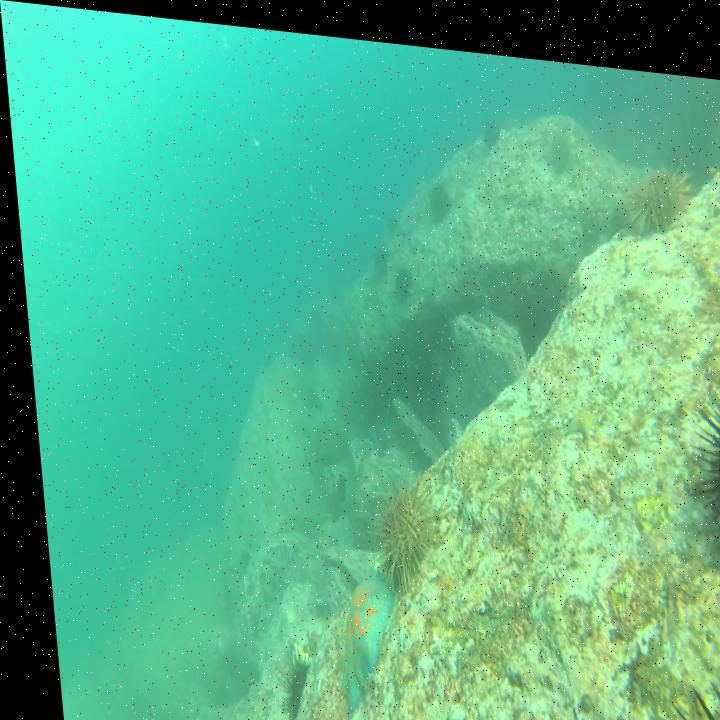echinus: (360, 458, 444, 601), (676, 334, 720, 562), (646, 604, 720, 720), (618, 139, 696, 228), (260, 637, 307, 720), (387, 253, 414, 307), (541, 115, 573, 160), (423, 170, 450, 219), (477, 104, 502, 141), (367, 235, 388, 274), (380, 198, 396, 230)
starfish: (323, 555, 396, 716)
